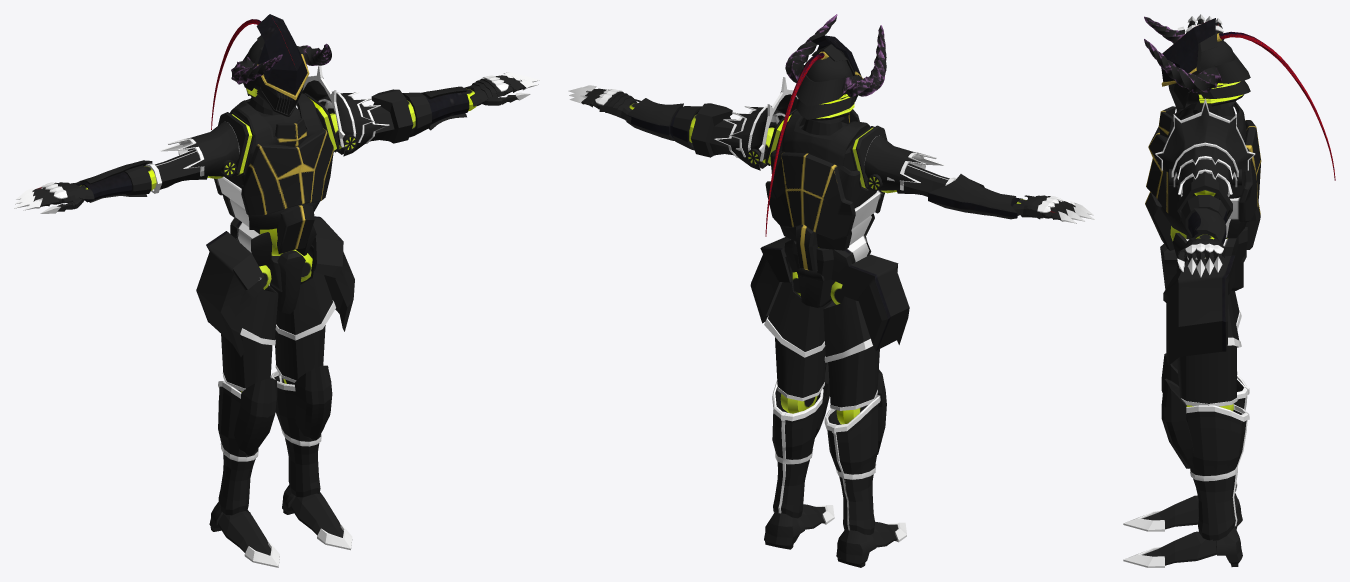
File: mao2.fbx
The picture shows the model from 3 angles, left to right: view 1: azimuth 30°, elevation 25°; view 2: azimuth 150°, elevation 25°; view 3: azimuth 270°, elevation 25°; orthographic projection. The views are drawn at different scales.
Visible parts, largest first — view 1: Spine_3, R_UP_Leg, L_UP_Leg, Head, R_low_Leg, L_low_Leg, L_UP_Arm, Spine_2, R_UP_Arm, L_Low_arm, R_Low_arm, L_foot (+5 smaller); view 2: Spine_3, R_UP_Leg, L_UP_Leg, Head, R_low_Leg, L_UP_Arm, L_low_Leg, Spine_2, R_UP_Arm, R_Low_arm, L_Low_arm, R_foot (+5 smaller); view 3: L_UP_Leg, L_low_Leg, Head, L_UP_Arm, Spine_3, Spine_2, L_foot, L_Low_arm, R_foot, hip, R_low_Leg, L_hand (+2 smaller).
Part boxes in pixels (bbox=[...]): Spine_3: bbox=[214, 93, 333, 215]; R_UP_Leg: bbox=[196, 231, 278, 392]; L_UP_Leg: bbox=[269, 216, 354, 384]; Head: bbox=[211, 14, 331, 129]; R_low_Leg: bbox=[218, 378, 277, 515]; L_low_Leg: bbox=[270, 364, 332, 497]; L_UP_Arm: bbox=[296, 65, 413, 156]; Spine_2: bbox=[223, 194, 319, 266]; R_UP_Arm: bbox=[145, 121, 239, 193]; L_Low_arm: bbox=[402, 86, 469, 137]; R_Low_arm: bbox=[76, 160, 156, 202]; L_foot: bbox=[282, 485, 343, 537]; Spine_3: bbox=[765, 109, 884, 239]; R_UP_Leg: bbox=[823, 254, 909, 424]; L_UP_Leg: bbox=[750, 237, 830, 413]; Head: bbox=[765, 14, 886, 236]; R_low_Leg: bbox=[824, 369, 886, 534]; L_UP_Arm: bbox=[691, 77, 798, 170]; L_low_Leg: bbox=[772, 362, 829, 518]; Spine_2: bbox=[780, 213, 874, 284]; R_UP_Arm: bbox=[864, 135, 956, 196]; R_Low_arm: bbox=[928, 174, 1022, 219]; L_Low_arm: bbox=[626, 98, 701, 150]; R_foot: bbox=[836, 521, 898, 567]; L_UP_Leg: bbox=[1163, 255, 1241, 411]; L_low_Leg: bbox=[1161, 378, 1249, 540]; Head: bbox=[1144, 16, 1335, 180]; L_UP_Arm: bbox=[1155, 98, 1255, 222]; Spine_3: bbox=[1146, 102, 1261, 221]; Spine_2: bbox=[1145, 191, 1260, 264]; L_foot: bbox=[1142, 526, 1242, 566]; L_Low_arm: bbox=[1181, 195, 1226, 244]; R_foot: bbox=[1142, 493, 1242, 529]; hip: bbox=[1160, 244, 1246, 290]; R_low_Leg: bbox=[1161, 353, 1249, 491]; L_hand: bbox=[1178, 234, 1224, 257].
Bounding box in the file's own units: 285 × 266 × 97.42.
